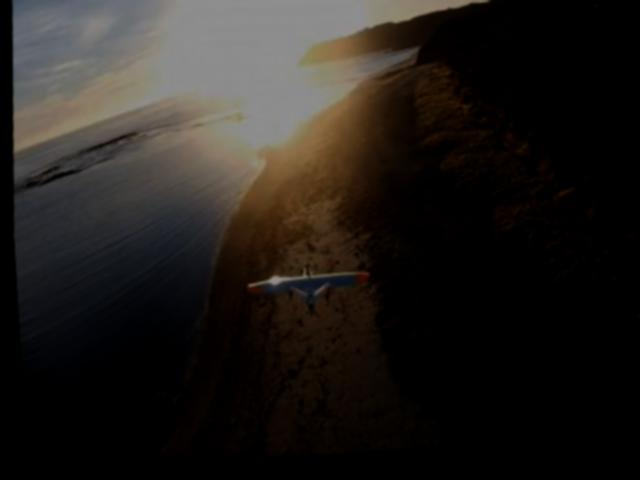uav: (240, 264, 369, 326)
